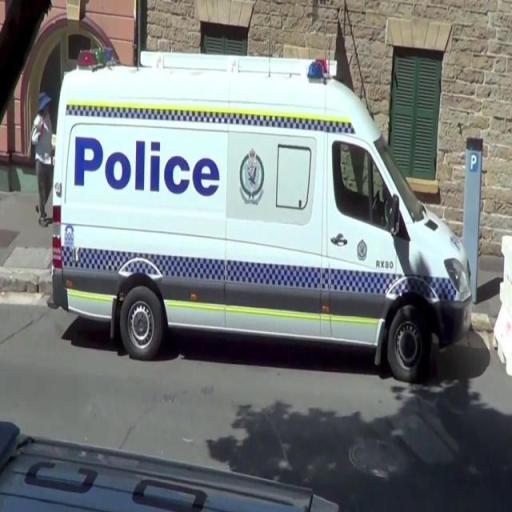Ambulance: (52, 45, 470, 383)
